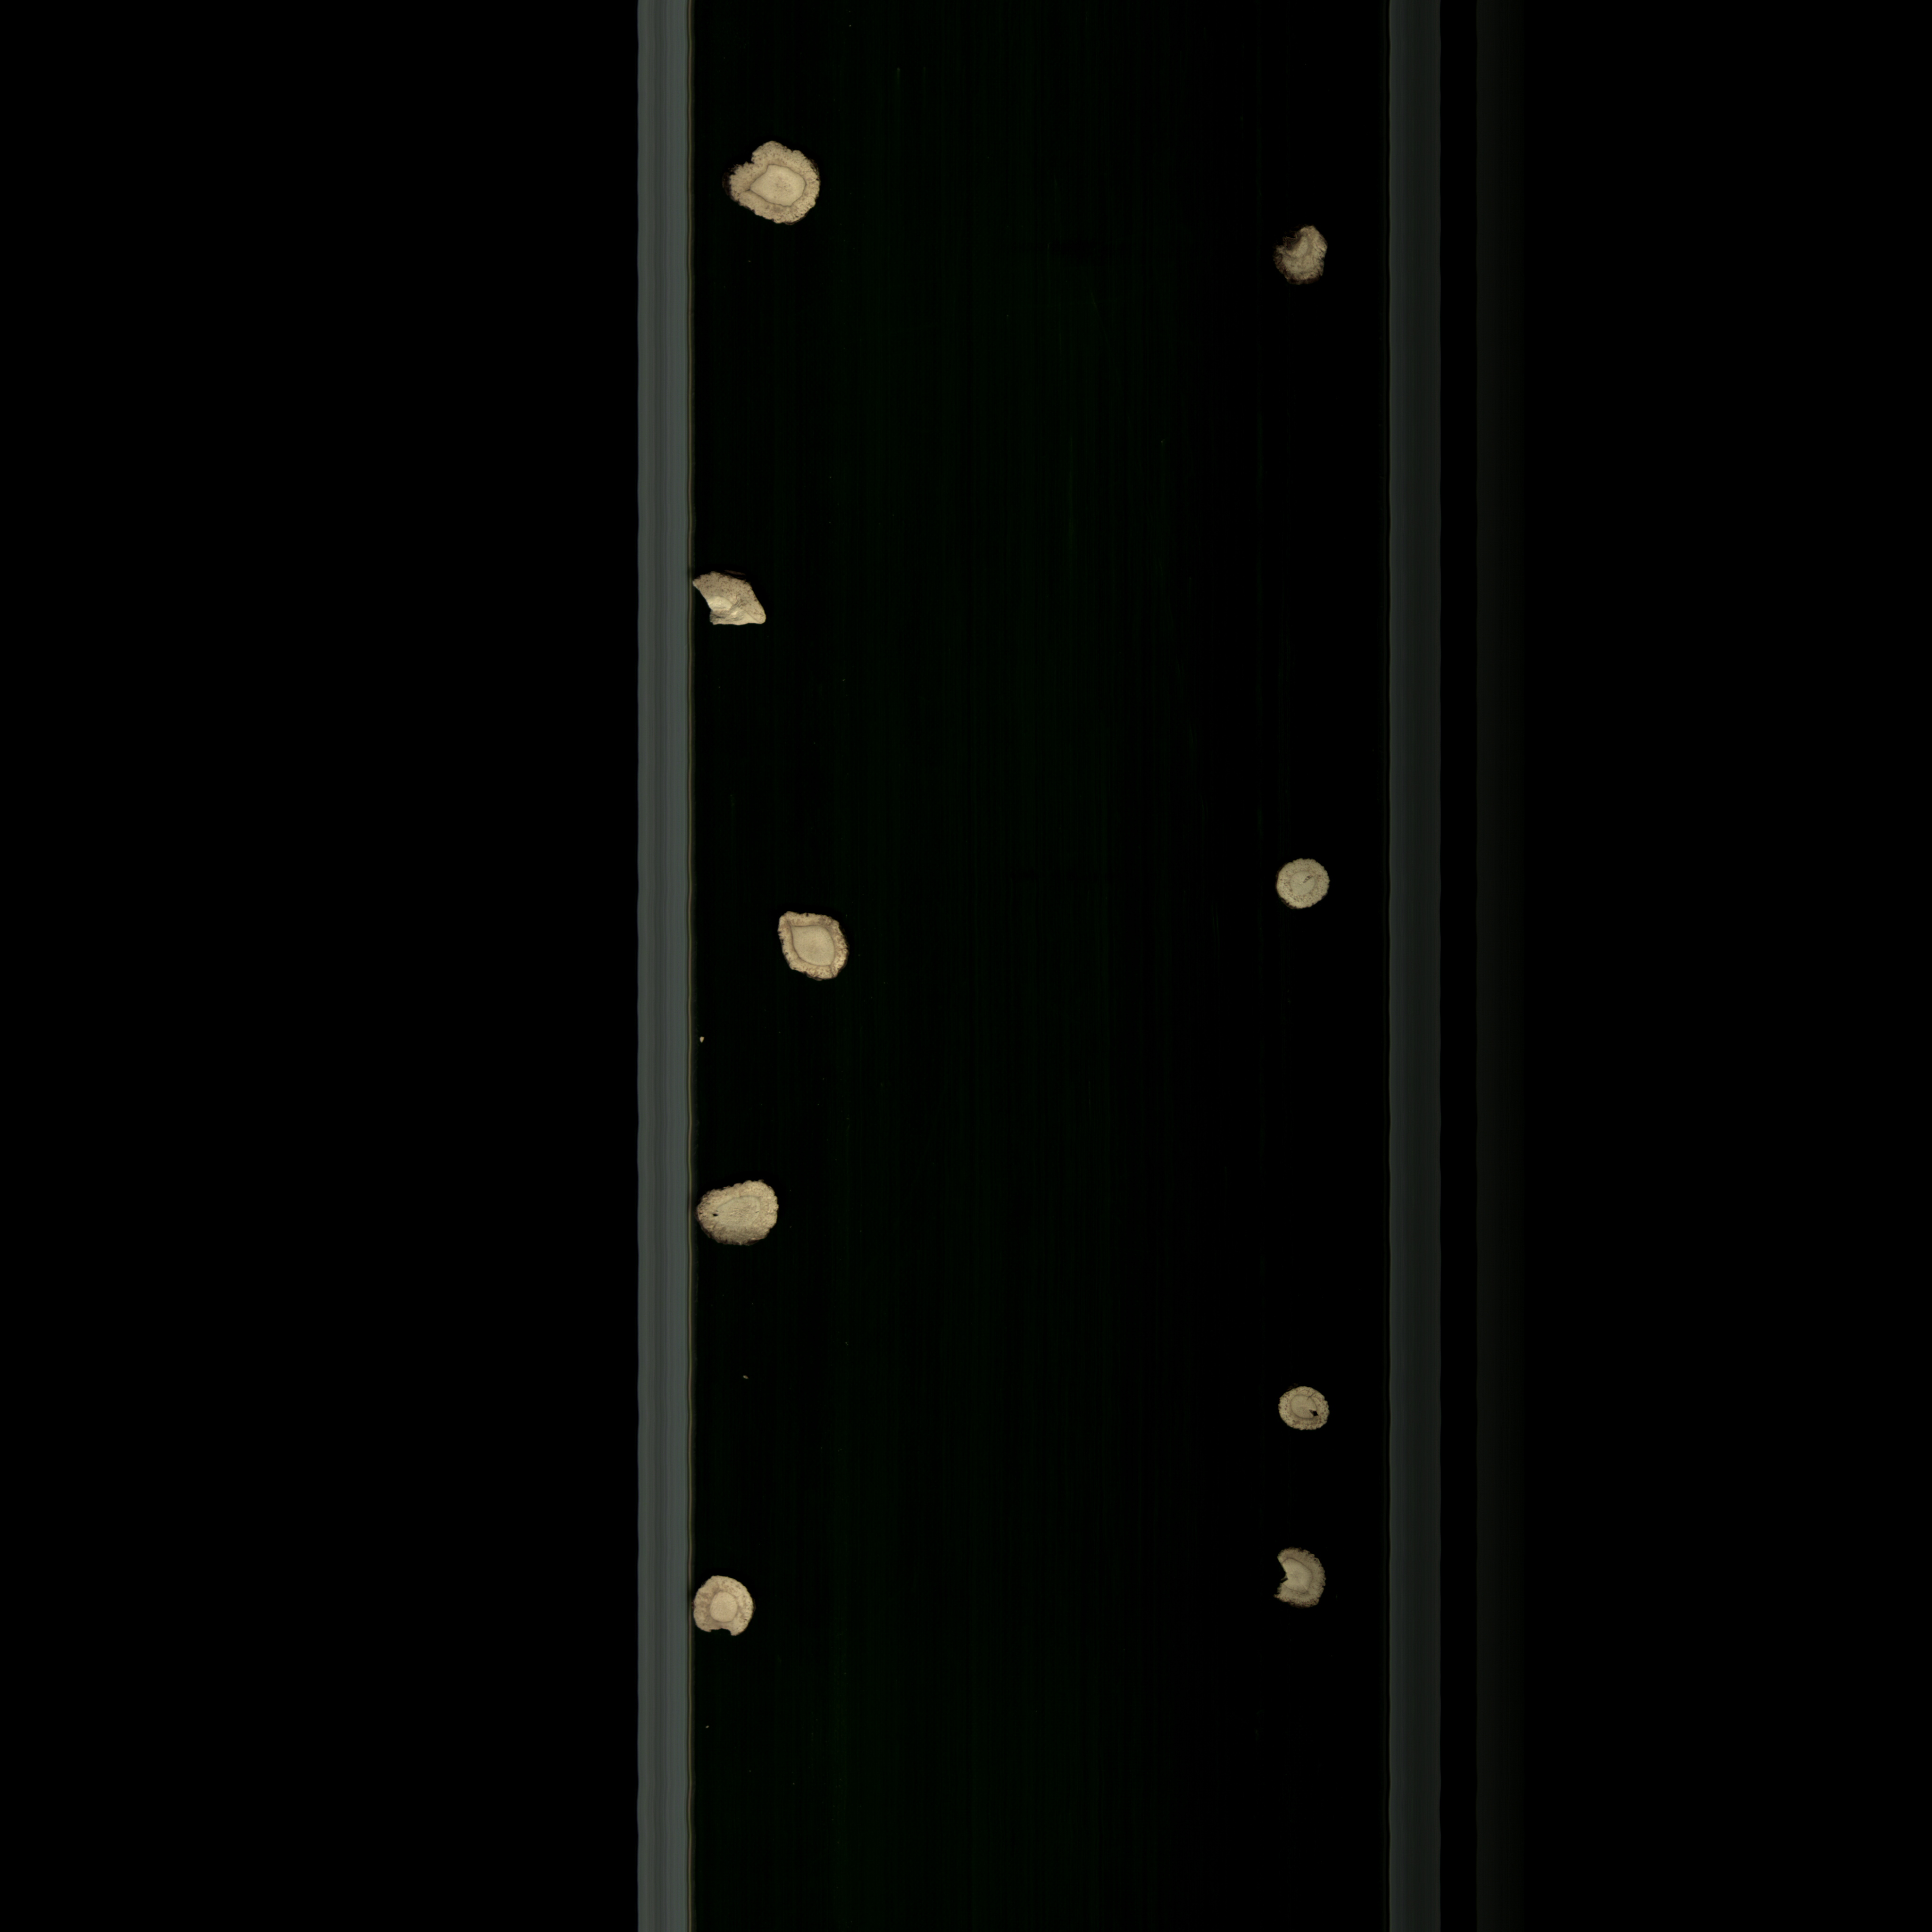bark: (1258, 216, 1353, 297)
debris: (686, 566, 800, 642), (1256, 1532, 1345, 1628), (686, 1568, 771, 1652)
distortion: (717, 134, 844, 244), (768, 895, 876, 1000)
hole: (686, 1177, 809, 1256), (1269, 1373, 1338, 1442)
